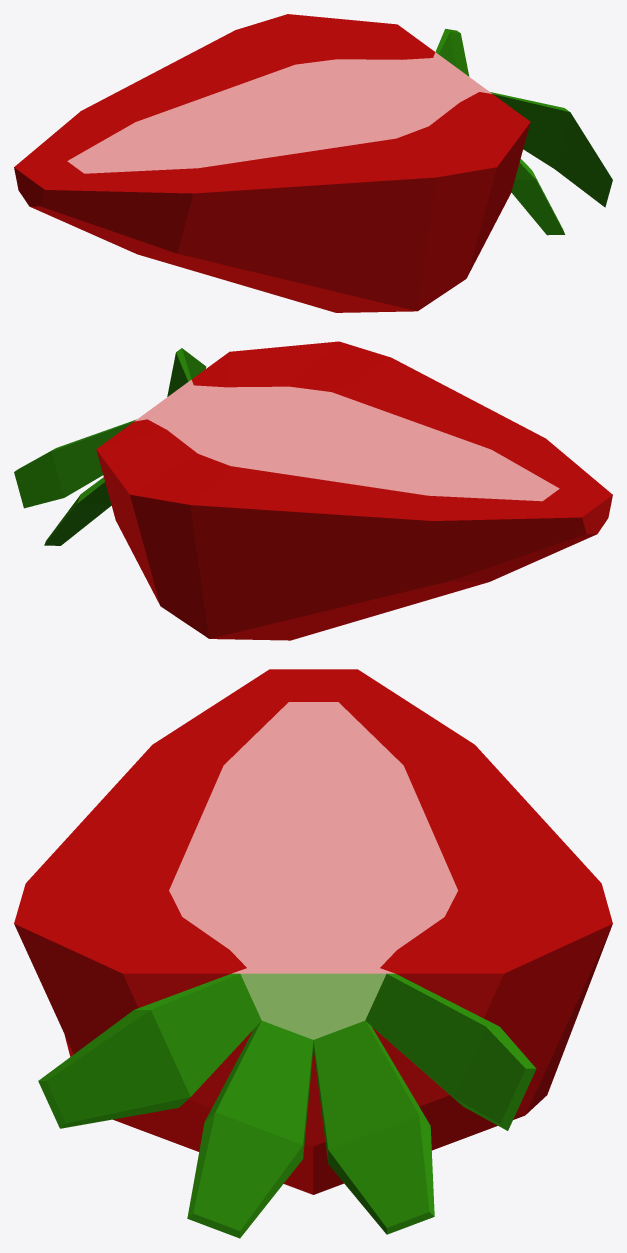
Rendered from strawberry02.obj.
3 renders of one model, top to bottom at view 1: azimuth 30°, elevation 25°; view 2: azimuth 150°, elevation 25°; view 3: azimuth 270°, elevation 25°, orthographic. The views are drawn at different scales.
Visible parts, largest first — view 1: Cylinder.001; view 2: Cylinder.001; view 3: Cylinder.001.
Boxes of the visible parts, x1=… form: Cylinder.001: x1=14, y1=14, x2=612, y2=312; Cylinder.001: x1=14, y1=341, x2=612, y2=640; Cylinder.001: x1=14, y1=669, x2=612, y2=1238.
Bounding box in the file's own units: 0.0483 × 0.0189 × 0.0342.
1 material, 1 textured.
